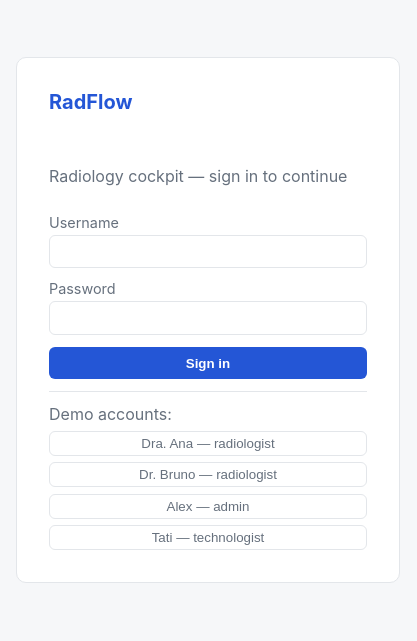
Scenario: LoginPage › shows an error on invalid credentials and stores nothing
Type "ana" into the field labelled "Username" at (208, 252), box x1=49 y1=235 x2=367 y2=268
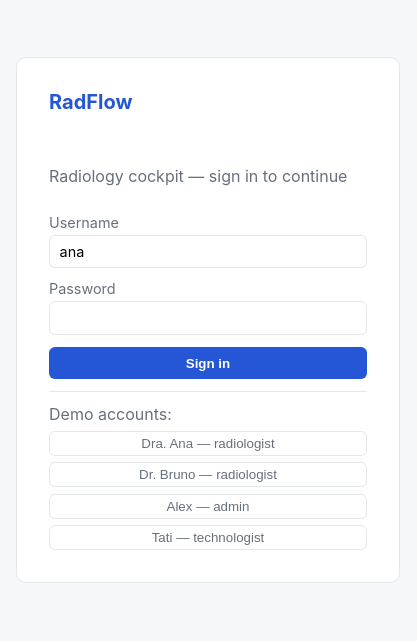
Type "wrong" into the password field labelled "Password" at (208, 318), box x1=49 y1=301 x2=367 y2=335
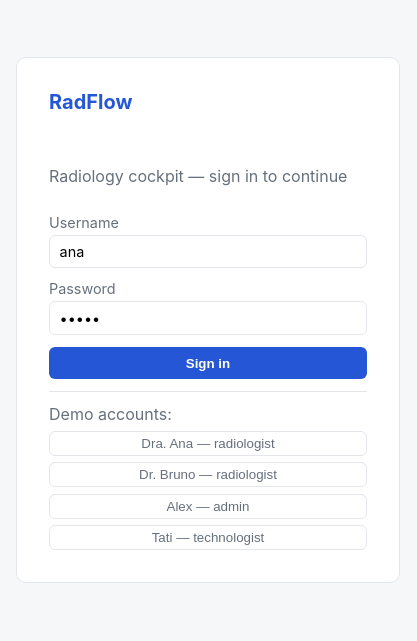
Click the button "Sign in" at (208, 363), box x1=49 y1=347 x2=367 y2=379
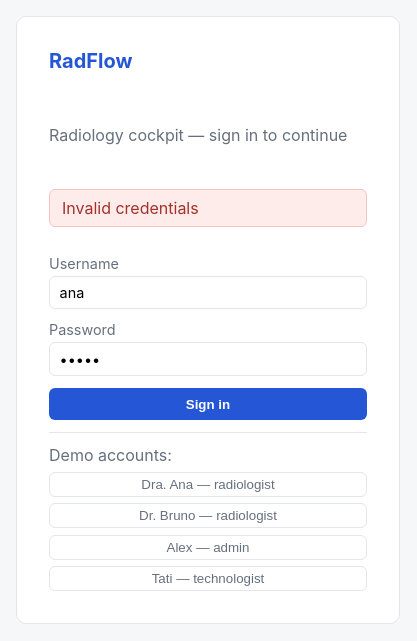
Expected: the text "Invalid credentials" is shown, x1=49 y1=189 x2=367 y2=227
